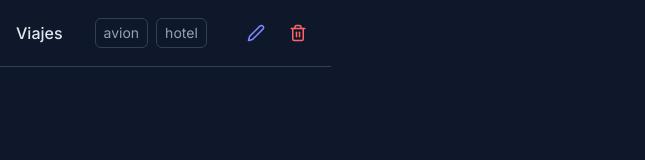
Test: CategoryRow component › should cancel edit mode when cancel button is clicked
Click the button titled "Editar Categoría" at [256, 33], box [239,16,273,50]
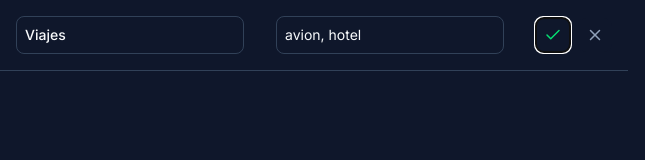
Expected: the 1st field showing "Viajes" is shown, [16,16,244,54]
Click cancel
Click the button titled "Cancelar" at [595, 35], box [578,18,612,52]
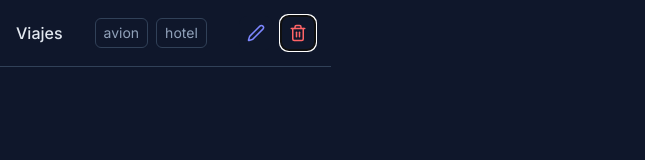
Expected: the text "Viajes" is shown, [0,0,78,66]
